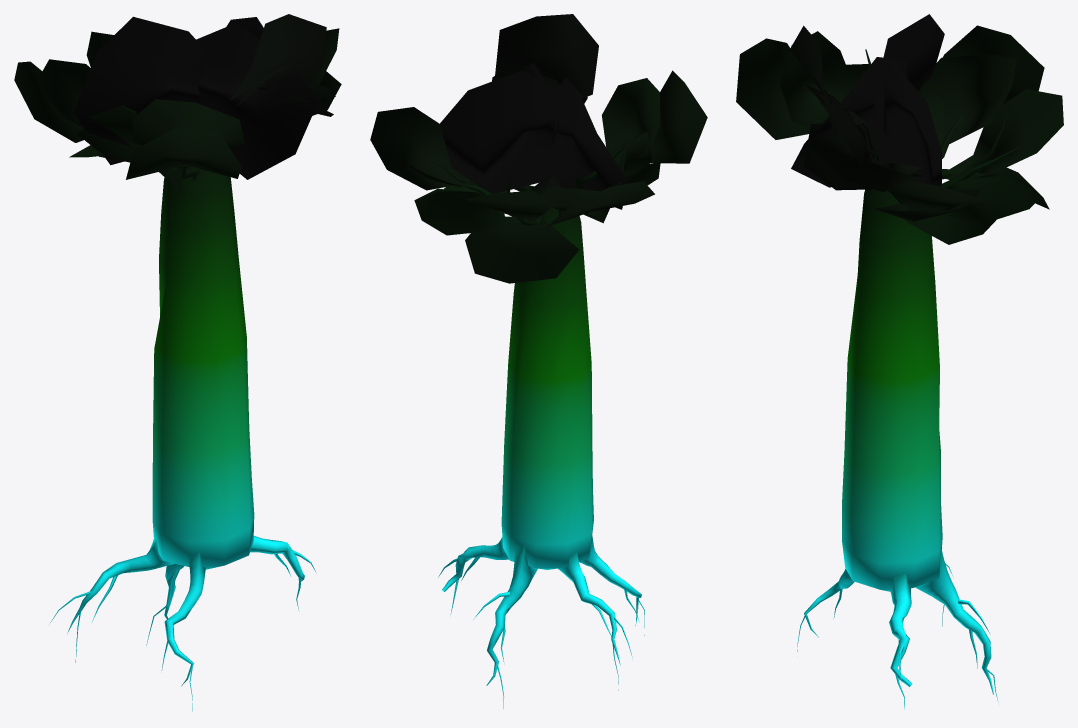
Rendered from Baobab7.fbx.
The picture shows the model from 3 angles, left to right: view 1: azimuth 30°, elevation 25°; view 2: azimuth 150°, elevation 25°; view 3: azimuth 270°, elevation 25°; orthographic projection. The views are drawn at different scales.
Parts seen in each view (by area): view 1: Baobab7_LOD0; view 2: Baobab7_LOD0; view 3: Baobab7_LOD0.
Boxes of the visible parts, x1,y1,x2,y2 form: Baobab7_LOD0: [14, 14, 341, 711]; Baobab7_LOD0: [370, 14, 707, 708]; Baobab7_LOD0: [736, 14, 1063, 709].
Size of what is drawn, in the model's own units: 520 by 1116 by 479.
